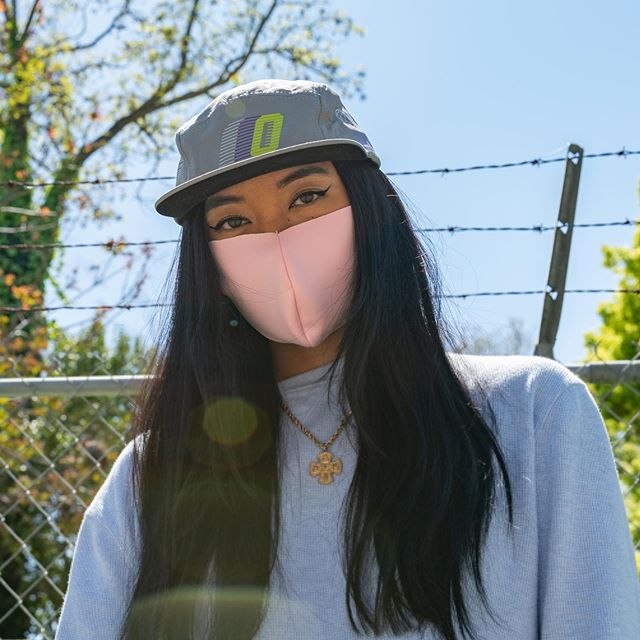homemade: (189, 217, 398, 348)
